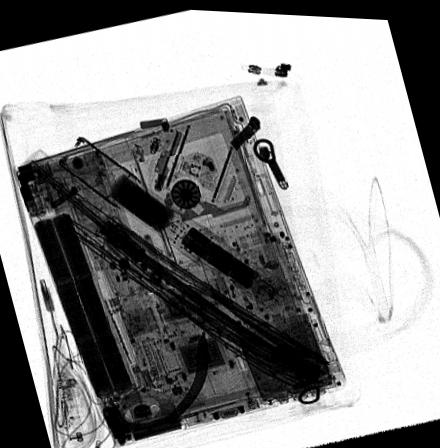Baton: (57, 133, 290, 310)
